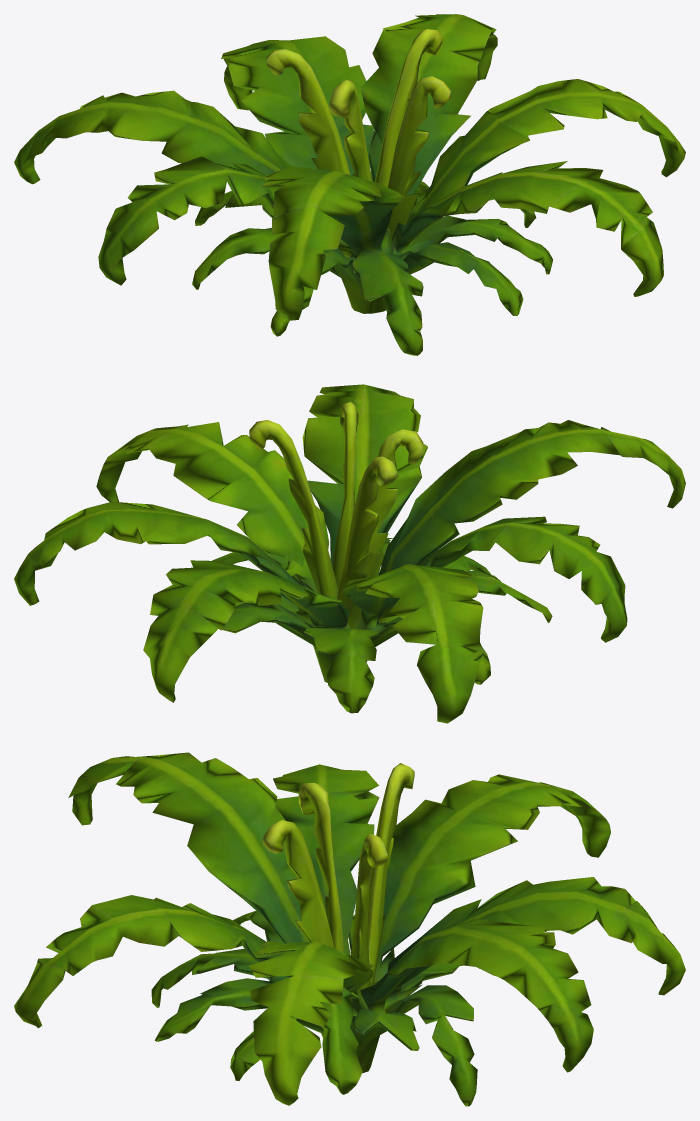
File: fougere.glb
The picture shows the model from 3 angles, top to bottom: view 1: azimuth 30°, elevation 25°; view 2: azimuth 150°, elevation 25°; view 3: azimuth 270°, elevation 25°; orthographic projection. The views are drawn at different scales.
Parts seen in each view (by area): view 1: geometry_0; view 2: geometry_0; view 3: geometry_0.
Boxes of the visible parts, x1=… form: geometry_0: x1=14, y1=14, x2=685, y2=355; geometry_0: x1=14, y1=384, x2=685, y2=723; geometry_0: x1=14, y1=752, x2=685, y2=1106.
Bounding box in the file's own units: 0.9541 × 0.419 × 0.9512.
Materials: 1 (1 with a texture image).
